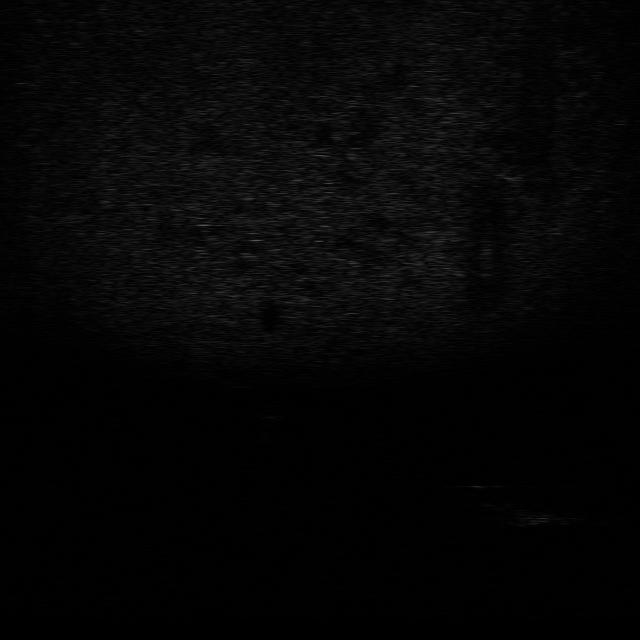ball: (252, 400, 286, 421)
metal bucket: (503, 504, 572, 532)
tyre: (464, 483, 514, 512)
